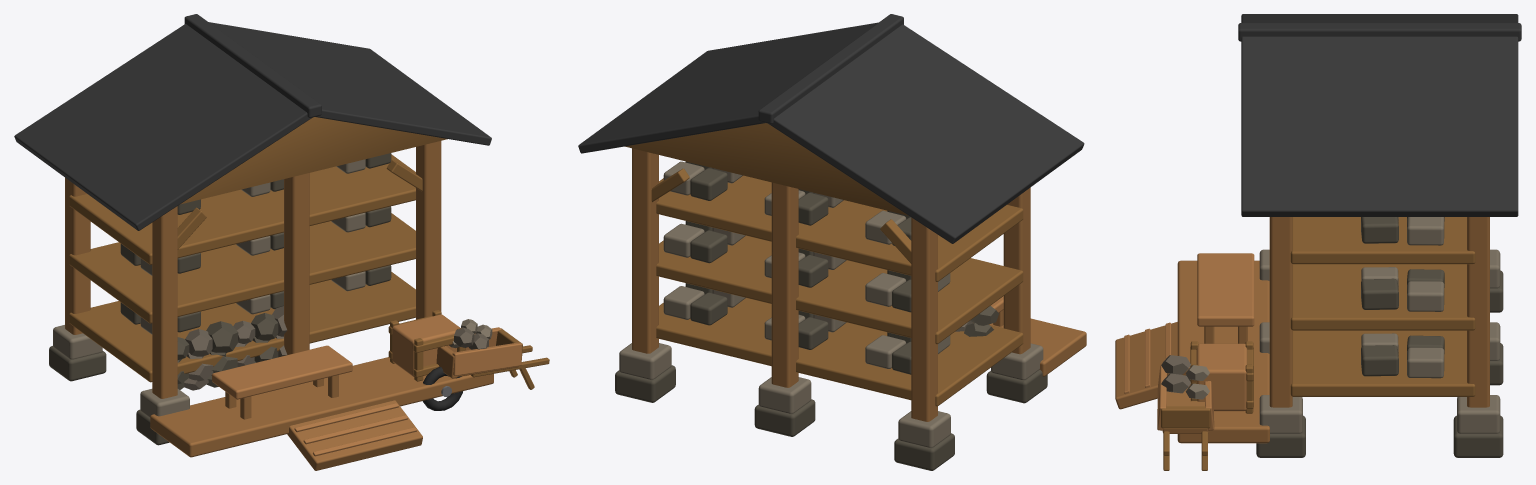
File: stone-yard.glb
3 renders of one model, left to right at view 1: azimuth 30°, elevation 25°; view 2: azimuth 150°, elevation 25°; view 3: azimuth 270°, elevation 25°, orthographic. The views are drawn at different scales.
Parts seen in each view (by area): view 1: stone-yard-farm-wood-dark, stone-yard-farm-roof-slate, stone-yard-farm-wood, stone-yard-farm-wood-light, stone-yard-farm-stone-dark, stone-yard-farm-stone, stone-yard-farm-rock, stone-yard-farm-window; view 2: stone-yard-farm-roof-slate, stone-yard-farm-wood-dark, stone-yard-farm-wood, stone-yard-farm-stone-dark, stone-yard-farm-stone; view 3: stone-yard-farm-roof-slate, stone-yard-farm-wood-dark, stone-yard-farm-wood, stone-yard-farm-stone, stone-yard-farm-wood-light, stone-yard-farm-stone-dark, stone-yard-farm-rock.
Part boxes in pixels (x1,y1,x2,y2): stone-yard-farm-wood-dark: [69, 117, 549, 389]; stone-yard-farm-roof-slate: [14, 14, 491, 230]; stone-yard-farm-wood: [65, 141, 518, 470]; stone-yard-farm-wood-light: [212, 314, 521, 456]; stone-yard-farm-stone-dark: [49, 153, 391, 445]; stone-yard-farm-stone: [53, 159, 492, 417]; stone-yard-farm-rock: [184, 306, 488, 390]; stone-yard-farm-window: [422, 367, 462, 410]; stone-yard-farm-roof-slate: [578, 14, 1084, 243]; stone-yard-farm-wood-dark: [625, 123, 1023, 406]; stone-yard-farm-wood: [632, 148, 1086, 421]; stone-yard-farm-stone-dark: [615, 161, 1047, 470]; stone-yard-farm-stone: [619, 161, 1043, 447]; stone-yard-farm-roof-slate: [1238, 14, 1521, 216]; stone-yard-farm-wood-dark: [1161, 217, 1475, 470]; stone-yard-farm-wood: [1115, 217, 1489, 443]; stone-yard-farm-stone: [1185, 217, 1500, 433]; stone-yard-farm-wood-light: [1124, 253, 1254, 430]; stone-yard-farm-stone-dark: [1256, 217, 1503, 457]; stone-yard-farm-rock: [1161, 355, 1190, 393].
Size of the model in its own units: 7.77 by 6.15 by 6.38.
